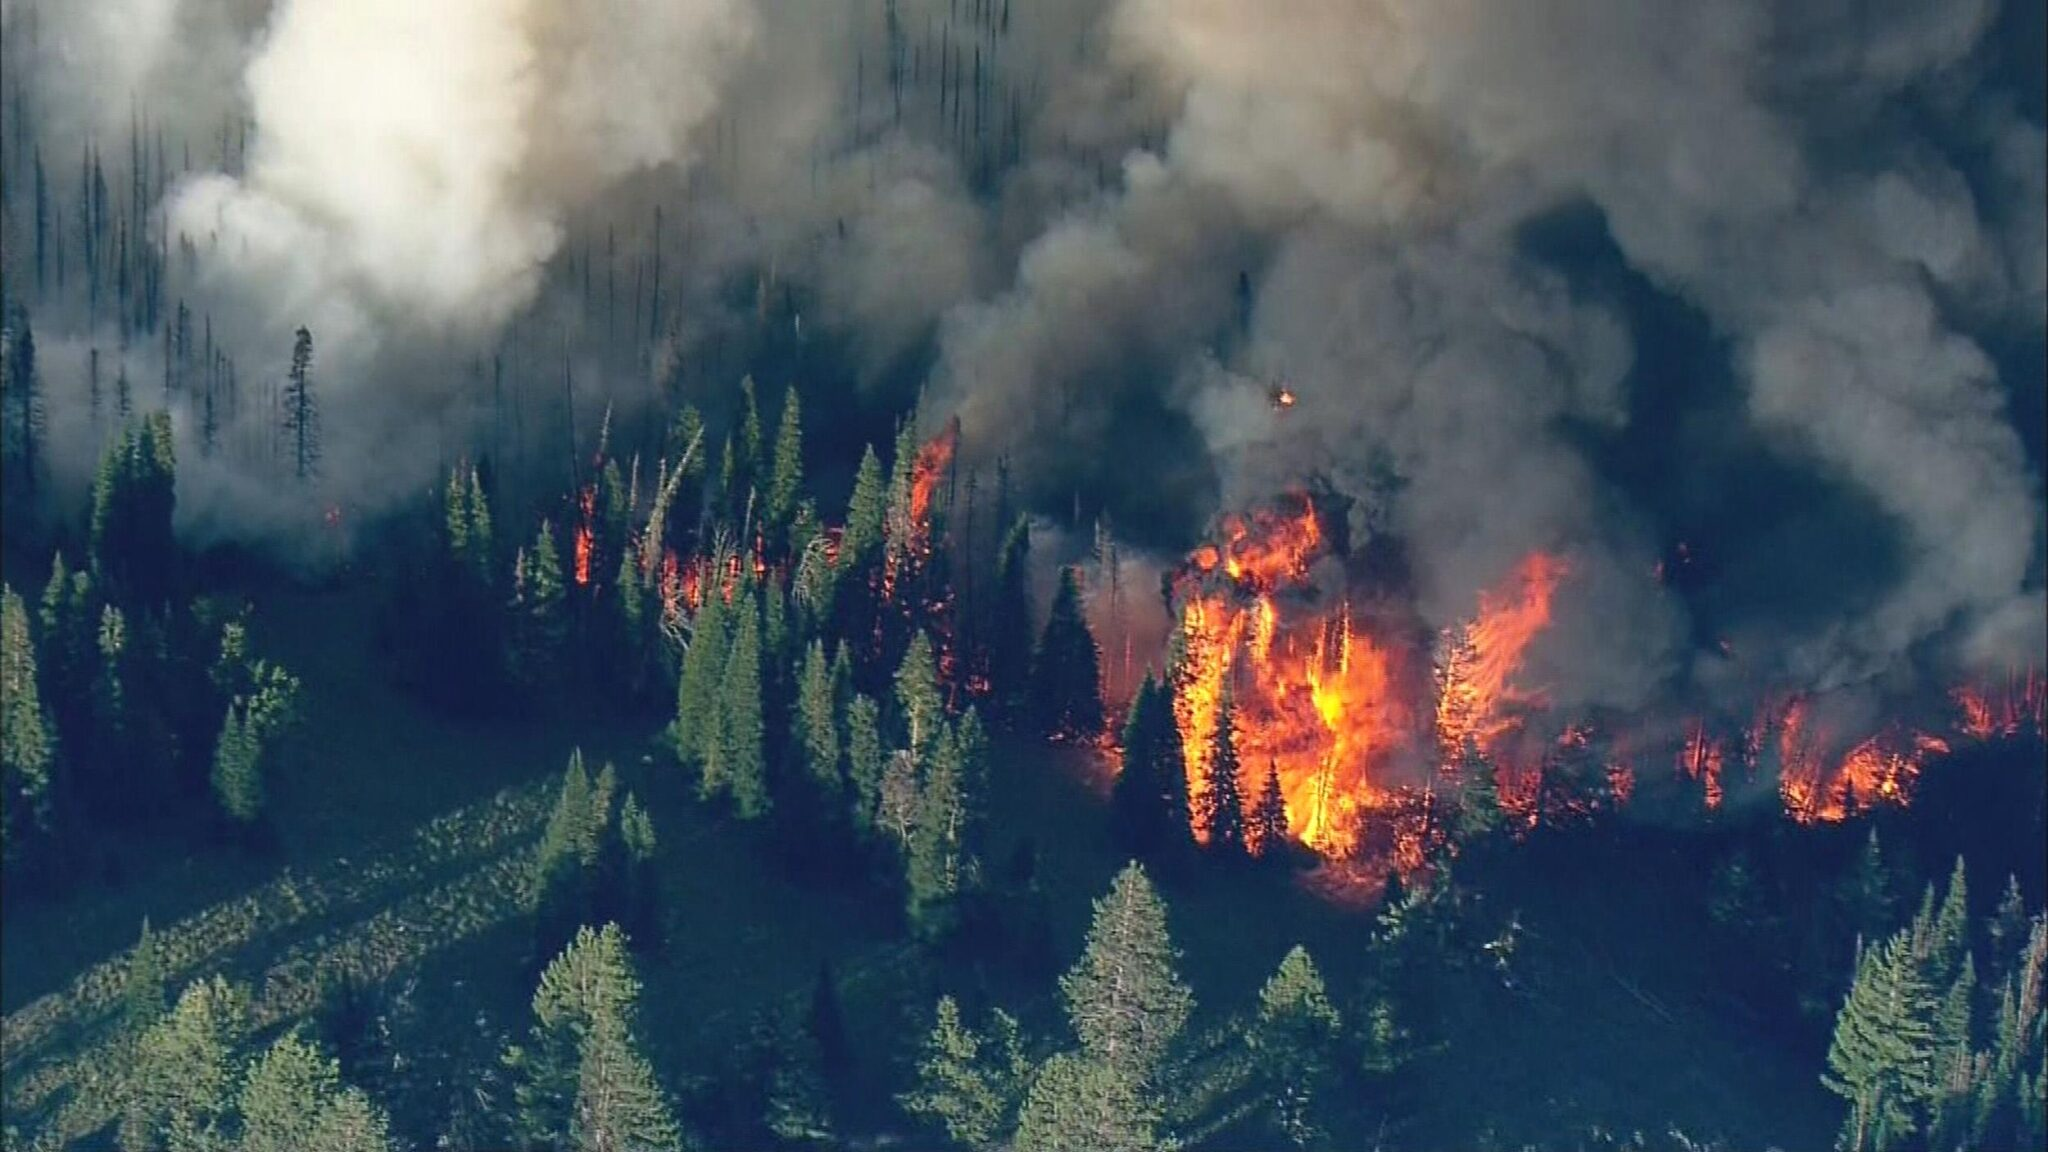fire: (1087, 497, 1616, 875), (567, 416, 966, 626), (1651, 655, 2048, 837)
